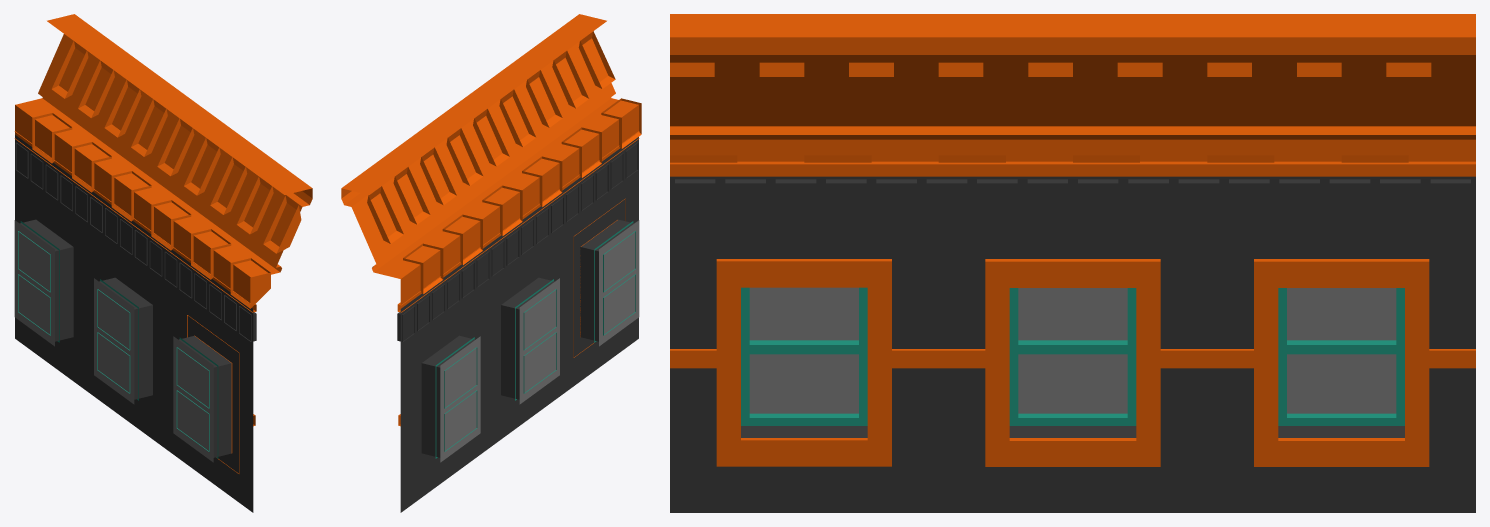
Rendered from SM_T_Build_02.fbx.
3 renders of one model, left to right at view 1: azimuth 30°, elevation 25°; view 2: azimuth 150°, elevation 25°; view 3: azimuth 270°, elevation 25°, orthographic. The views are drawn at different scales.
Parts seen in each view (by area): view 1: SM_T_Build_02, Plane006, Plane004, Plane003, Plane005, Box086, Box087; view 2: SM_T_Build_02, Plane006, Plane004, Plane005, Plane003, Box086, Box087; view 3: SM_T_Build_02, Plane006, Box086, Plane003, Box087, Plane004, Plane005, Box088, Box089, Box091, Box090.
Part boxes in pixels (<box>): SM_T_Build_02: <box>15,41,301,512</box>; Plane006: <box>15,14,312,308</box>; Plane004: <box>94,278,134,404</box>; Plane003: <box>173,336,213,462</box>; Plane005: <box>14,220,54,346</box>; Box086: <box>15,142,256,341</box>; Box087: <box>14,131,256,312</box>; SM_T_Build_02: <box>367,31,641,512</box>; Plane006: <box>341,14,638,308</box>; Plane004: <box>519,278,559,404</box>; Plane005: <box>440,336,480,462</box>; Plane003: <box>599,220,639,346</box>; Box086: <box>397,142,638,341</box>; Box087: <box>397,131,639,312</box>; SM_T_Build_02: <box>670,62,1475,512</box>; Plane006: <box>670,14,1475,161</box>; Box086: <box>675,179,1470,229</box>; Plane003: <box>749,287,858,413</box>; Box087: <box>670,161,1475,176</box>; Plane004: <box>1018,288,1127,413</box>; Plane005: <box>1287,288,1396,413</box>; Box088: <box>892,349,985,368</box>; Box089: <box>1160,349,1253,368</box>; Box091: <box>670,349,716,368</box>; Box090: <box>1429,349,1475,368</box>.
Bounding box in the file's own units: 222 × 819 × 1140.
